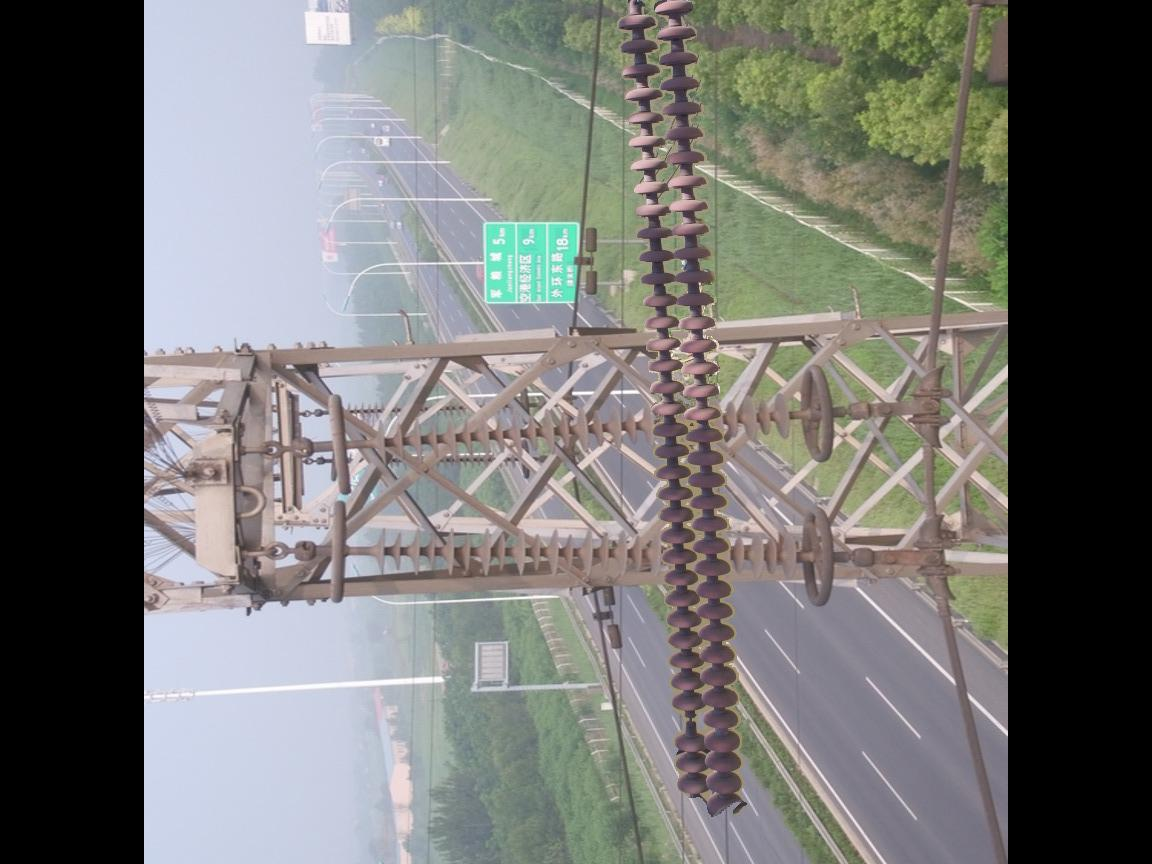insulator: (608, 1, 751, 825), (368, 378, 798, 475), (363, 517, 801, 590)
insulator_stringdrop: (671, 688, 706, 755)
